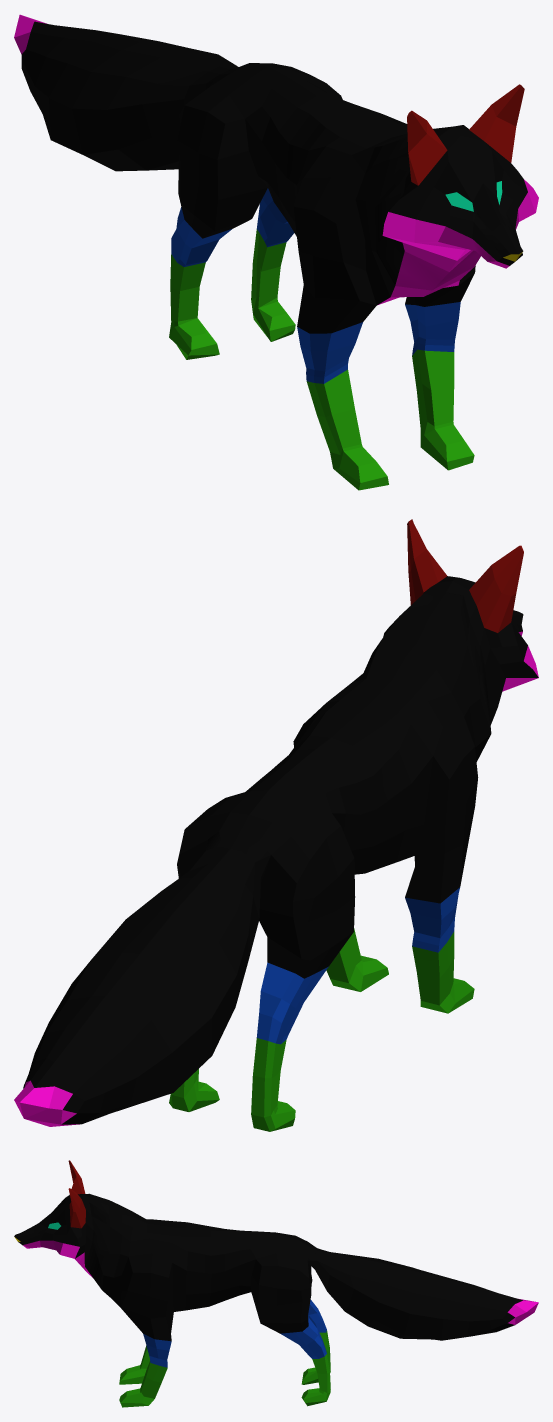
The model's file is Foxxy_JR 1.fbx.
3 renders of one model, top to bottom at view 1: azimuth 30°, elevation 25°; view 2: azimuth 150°, elevation 25°; view 3: azimuth 270°, elevation 25°, orthographic. The views are drawn at different scales.
Parts seen in each view (by area): view 1: Fox_JR; view 2: Fox_JR; view 3: Fox_JR.
Boxes of the visible parts, x1,y1,x2,y2 form: Fox_JR: (14,14,538,490); Fox_JR: (14,519,538,1131); Fox_JR: (14,1160,538,1407).
Size of the model in its own units: 25.98 by 66.02 by 144.
